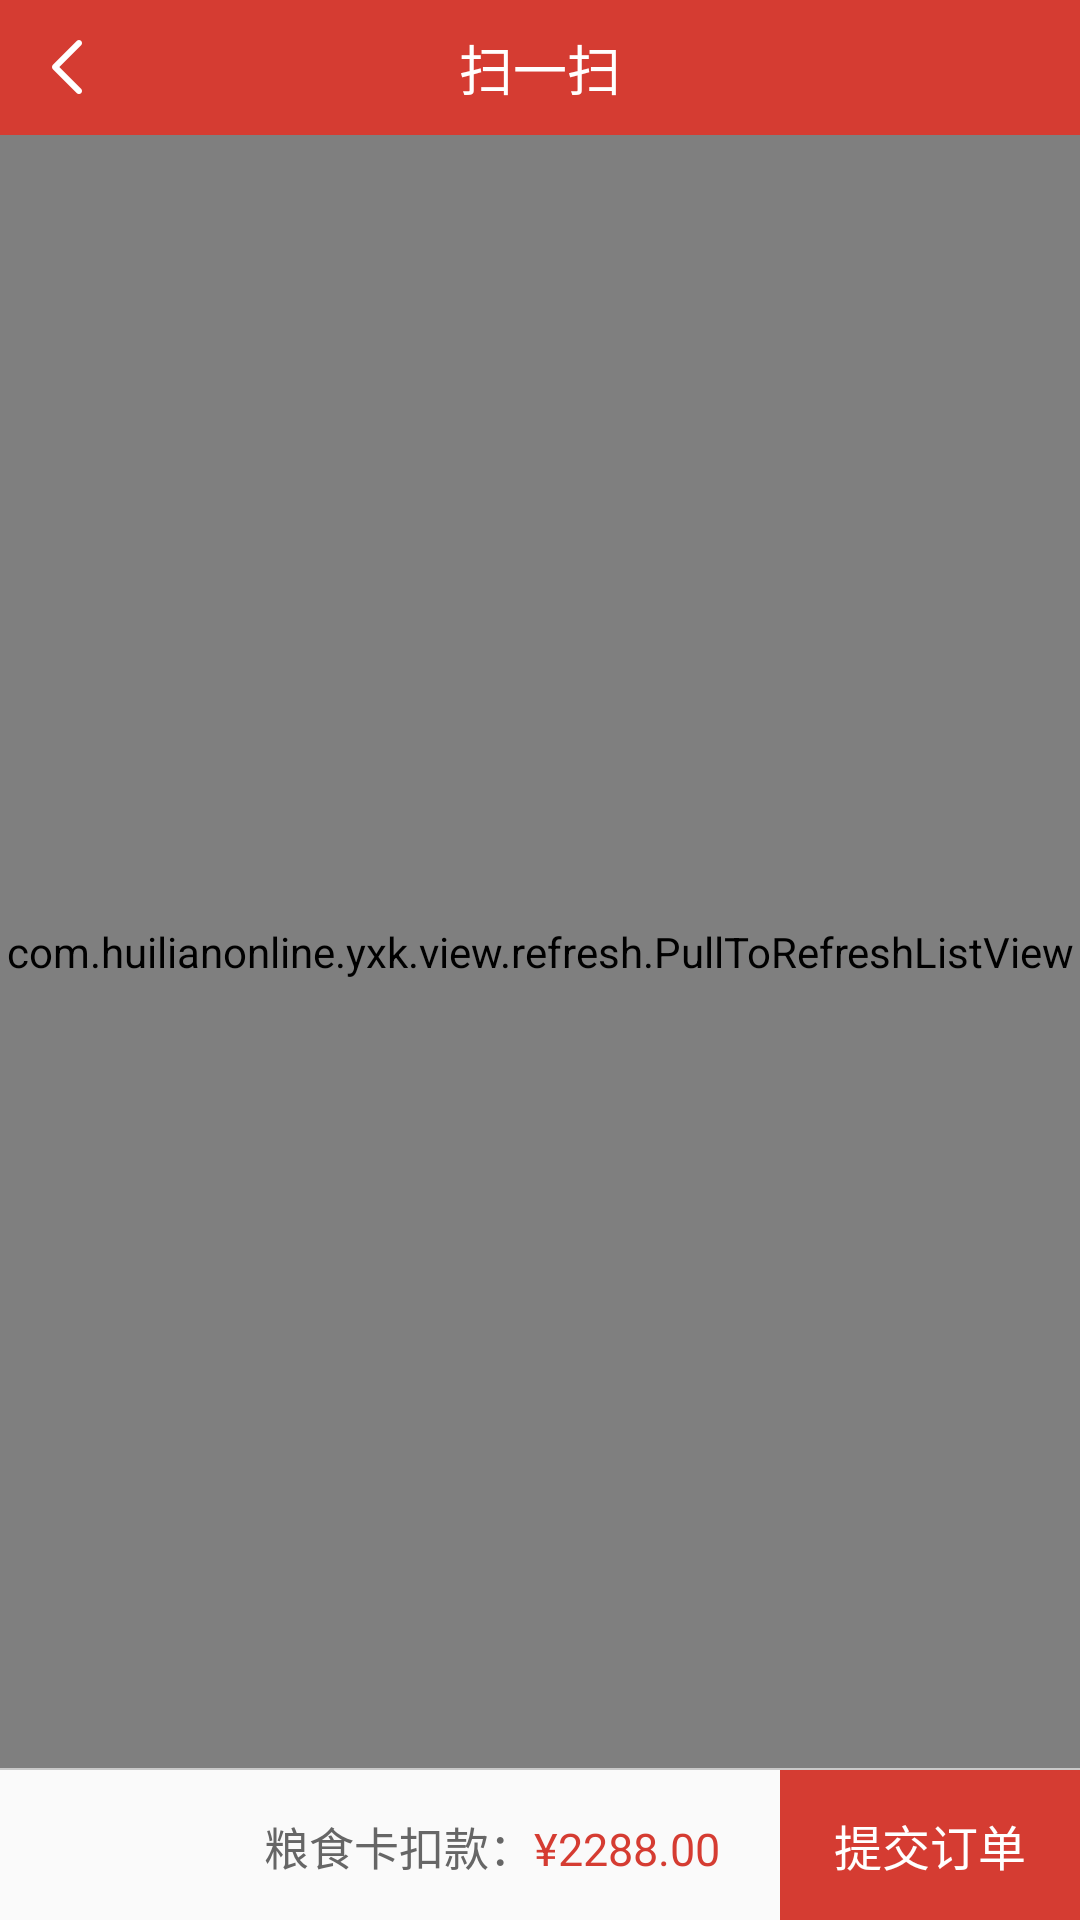

Point at icon controls on the screen. Image size 1080w x 1920h, points as [x,y].
class back: [67,67]
